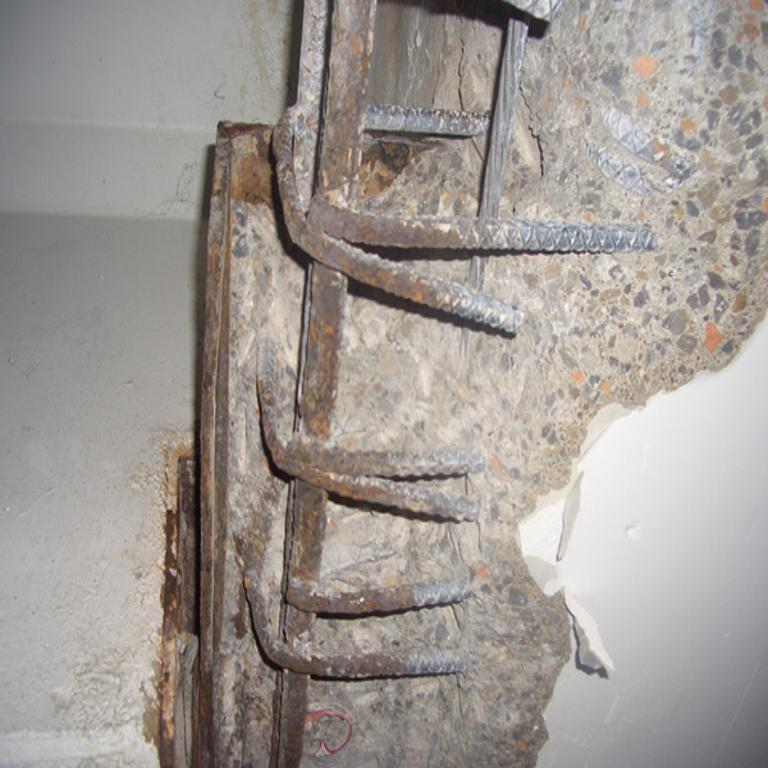exposed_rebar: (248, 0, 654, 767), (200, 126, 232, 767), (478, 0, 559, 220)
spalling: (156, 0, 768, 768)
